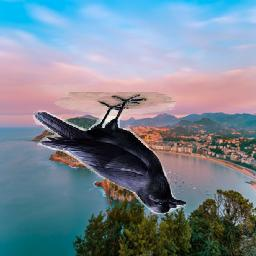Crow: (34, 92, 187, 214)
